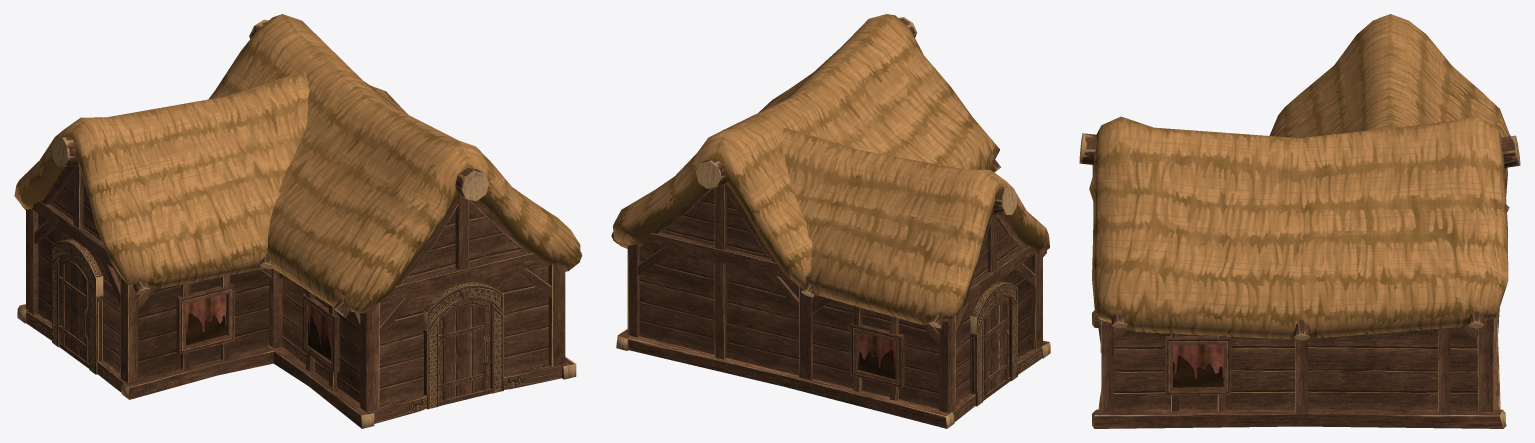
Rendered from House3.fbx.
3 renders of one model, left to right at view 1: azimuth 30°, elevation 25°; view 2: azimuth 150°, elevation 25°; view 3: azimuth 270°, elevation 25°, orthographic. The views are drawn at different scales.
Parts seen in each view (by area): view 1: House3; view 2: House3; view 3: House3.
Part boxes in pixels (x1,y1,x2,y2): House3: (14,14,582,428); House3: (611,14,1050,428); House3: (1079,14,1520,428).
Bounding box in the file's own units: 552 × 336 × 519.
